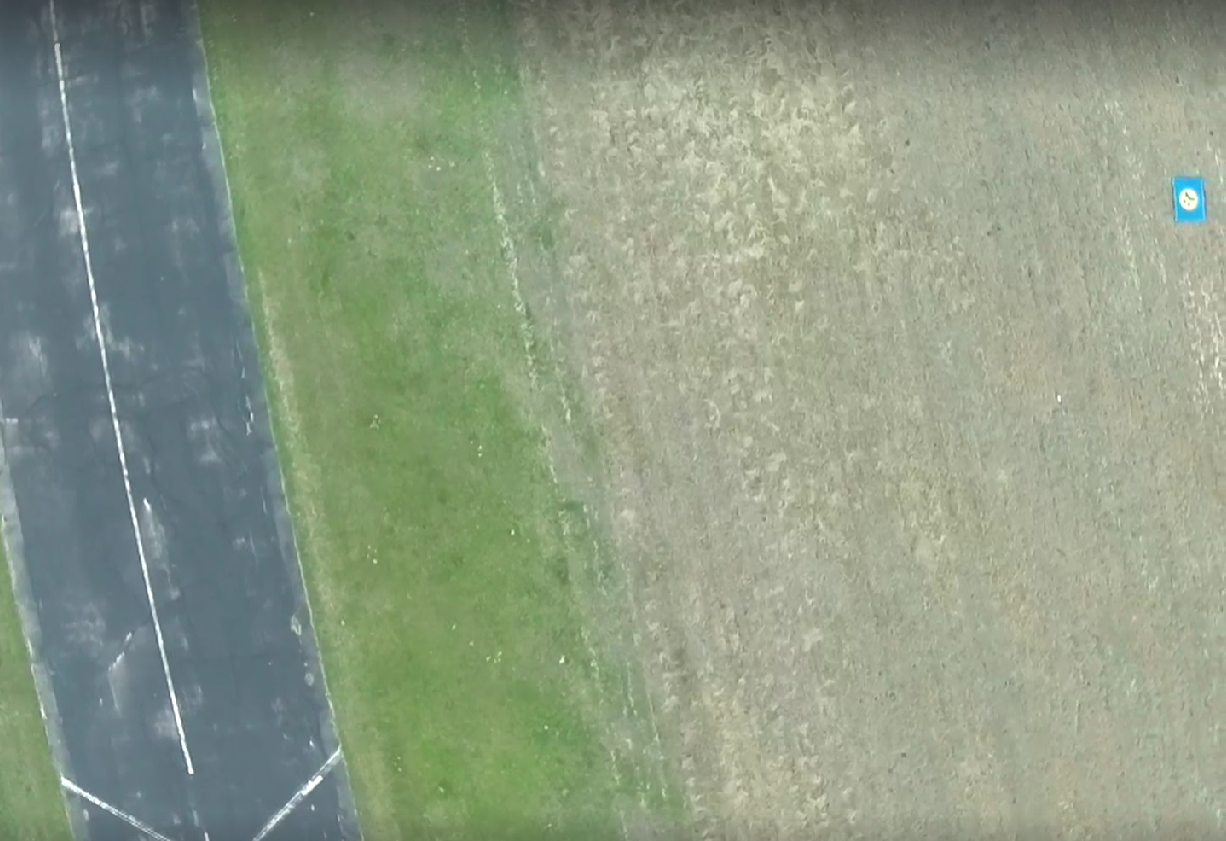CRT: (1178, 188, 1198, 210)
TOI: (1171, 174, 1208, 224)
